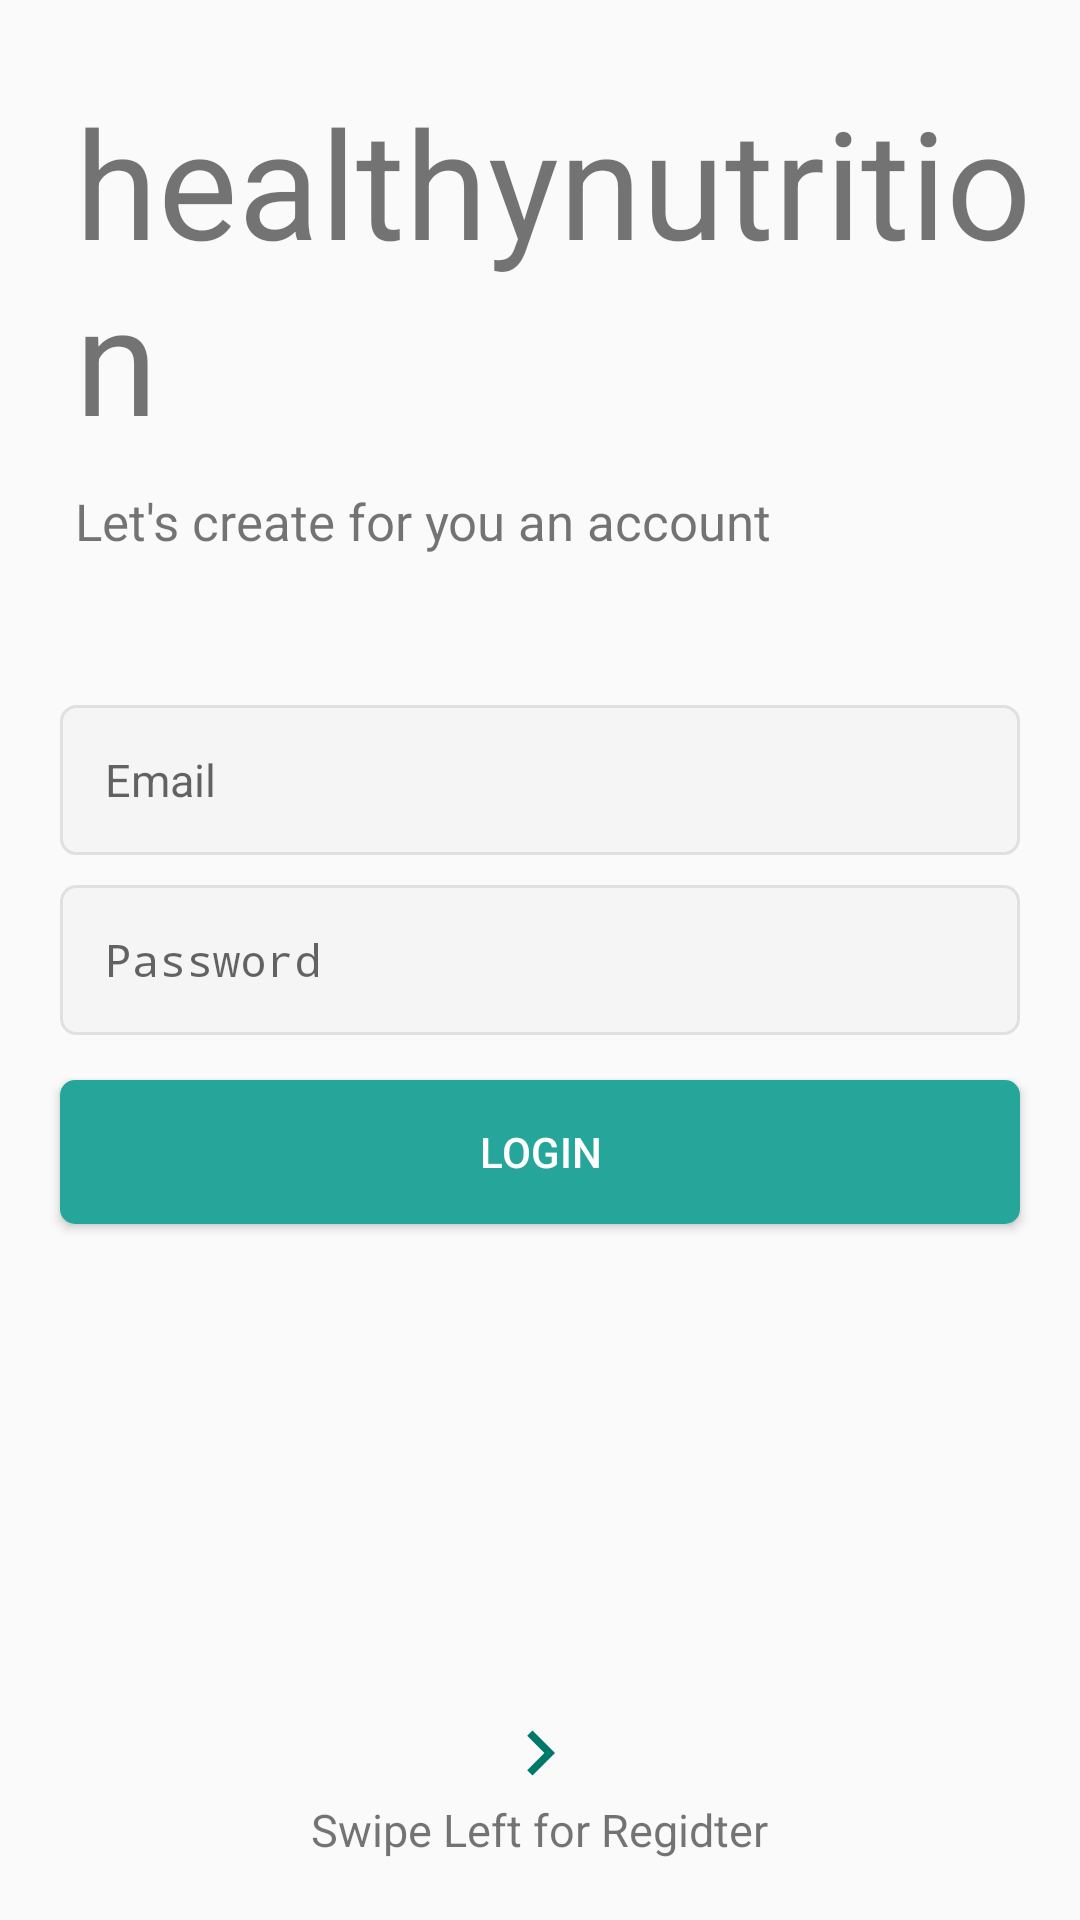

Named icons in this screenshot (1080 × 1920) and their centers, [x,y]:
arrow right: [541,1753]
